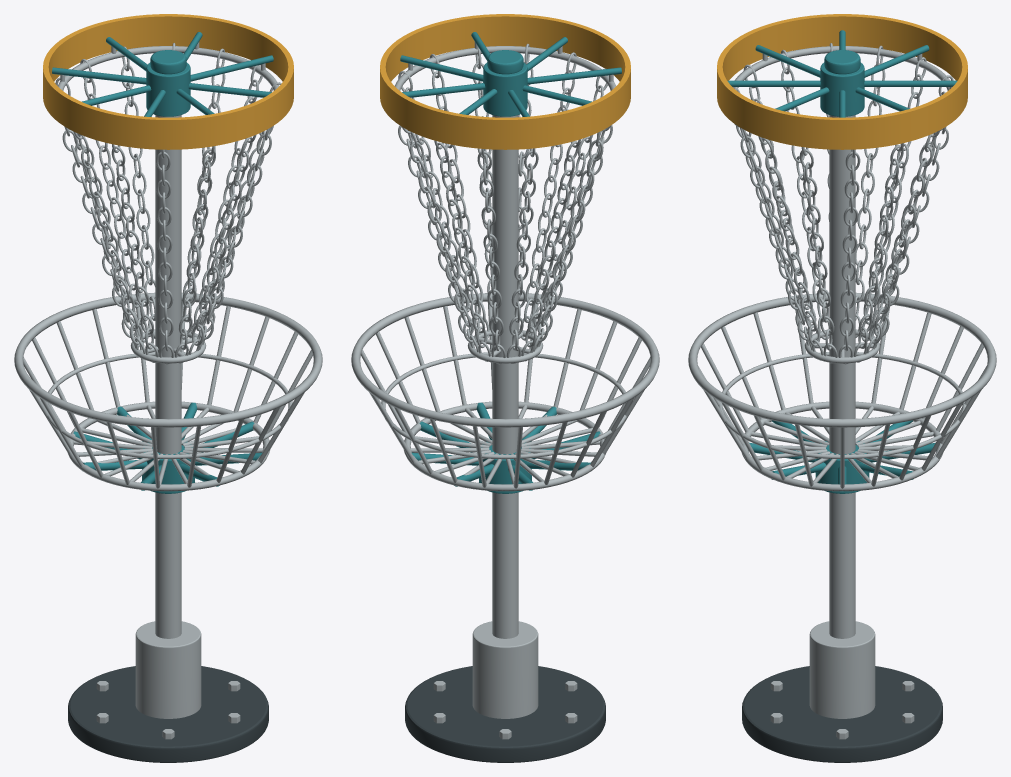
Rendered from city-disc-golf-target.glb.
The picture shows the model from 3 angles, left to right: view 1: azimuth 30°, elevation 25°; view 2: azimuth 150°, elevation 25°; view 3: azimuth 270°, elevation 25°; orthographic projection.
Parts seen in each view (by area): view 1: Assembly | Satin galvanized small fittings, Assembly | Ochre yellow powder coating, Assembly | Dark graphite coated frame, Assembly | Muted petrol powder coating; view 2: Assembly | Satin galvanized small fittings, Assembly | Ochre yellow powder coating, Assembly | Dark graphite coated frame, Assembly | Muted petrol powder coating; view 3: Assembly | Satin galvanized small fittings, Assembly | Ochre yellow powder coating, Assembly | Dark graphite coated frame, Assembly | Muted petrol powder coating.
Boxes of the visible parts, x1,y1,x2,y2 form: Assembly | Satin galvanized small fittings: (14,42,322,739); Assembly | Ochre yellow powder coating: (43,14,293,149); Assembly | Dark graphite coated frame: (68,666,268,762); Assembly | Muted petrol powder coating: (52,32,273,493); Assembly | Satin galvanized small fittings: (351,42,659,739); Assembly | Ochre yellow powder coating: (380,14,630,149); Assembly | Dark graphite coated frame: (405,666,605,762); Assembly | Muted petrol powder coating: (400,32,621,493); Assembly | Satin galvanized small fittings: (688,43,996,739); Assembly | Ochre yellow powder coating: (717,14,967,149); Assembly | Dark graphite coated frame: (742,666,942,762); Assembly | Muted petrol powder coating: (727,30,957,493).
Bounding box in the file's own units: 0.752 × 1.79 × 0.752.
